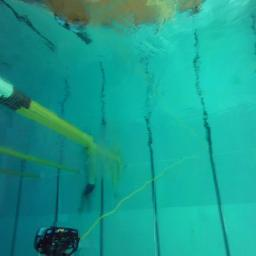Side: (34, 226, 80, 256)
